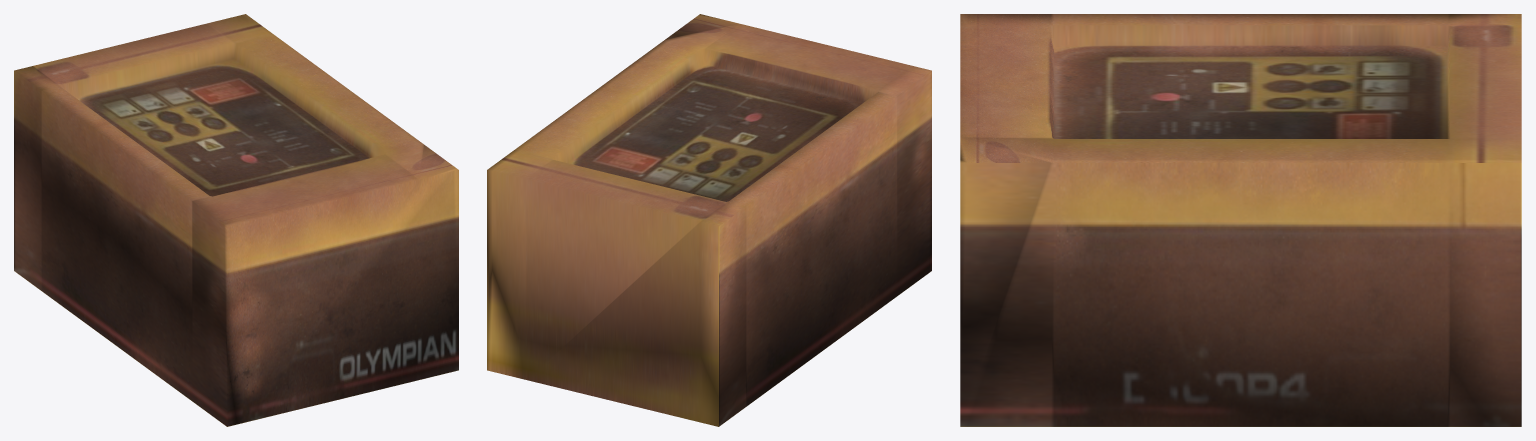
The model's file is generateur rust.fbx.
The picture shows the model from 3 angles, left to right: view 1: azimuth 30°, elevation 25°; view 2: azimuth 150°, elevation 25°; view 3: azimuth 270°, elevation 25°; orthographic projection. The views are drawn at different scales.
Visible parts, largest first — view 1: pCube1; view 2: pCube1; view 3: pCube1.
Boxes of the visible parts, box(x1,y1,x2,y2) form: pCube1: box(14, 14, 458, 426); pCube1: box(487, 14, 931, 426); pCube1: box(960, 14, 1521, 426).
Size of the model in its own units: 1135 by 938 by 1807.
